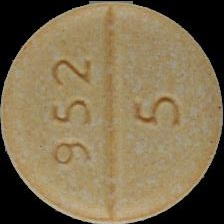0555-0952: (0, 0, 224, 224)
